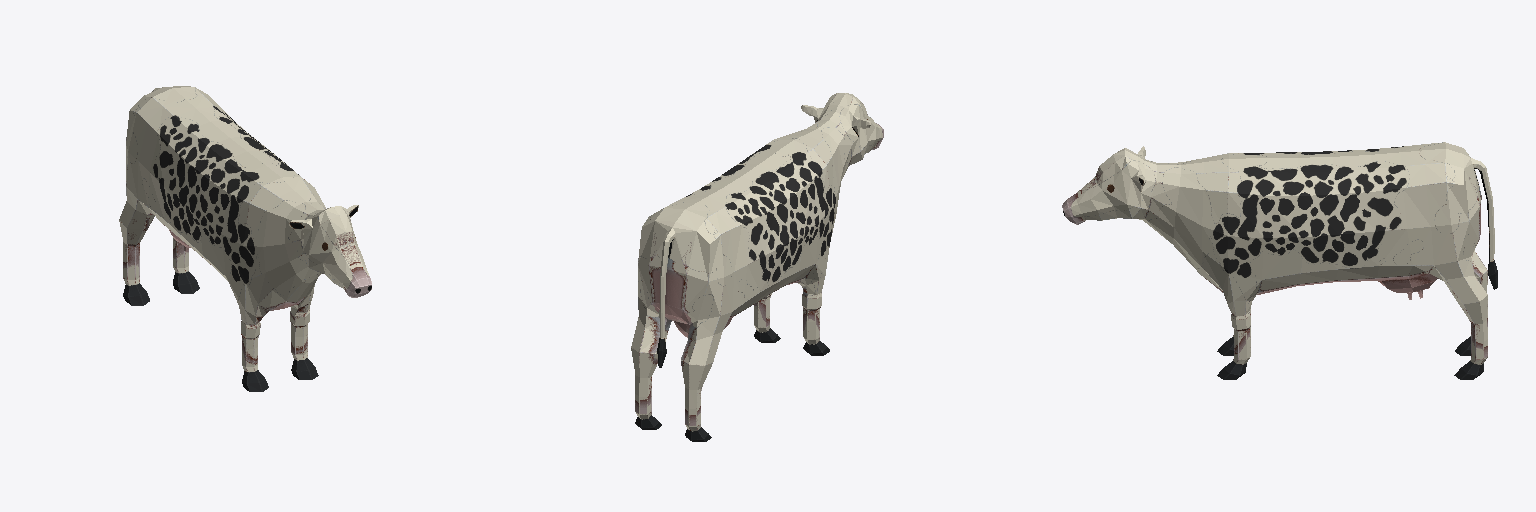
The picture shows the model from 3 angles: view 1: azimuth 30°, elevation 25°; view 2: azimuth 150°, elevation 25°; view 3: azimuth 270°, elevation 25°; orthographic projection.
Visible parts, largest first — view 1: Cow_mesh; view 2: Cow_mesh; view 3: Cow_mesh.
Boxes of the visible parts, <box> form: Cow_mesh: <box>119,86,371,391</box>; Cow_mesh: <box>631,93,883,441</box>; Cow_mesh: <box>1062,142,1497,379</box>.
Bounding box in the file's own units: 3.36 × 7.42 × 13.65.
1 materials, 1 textured.